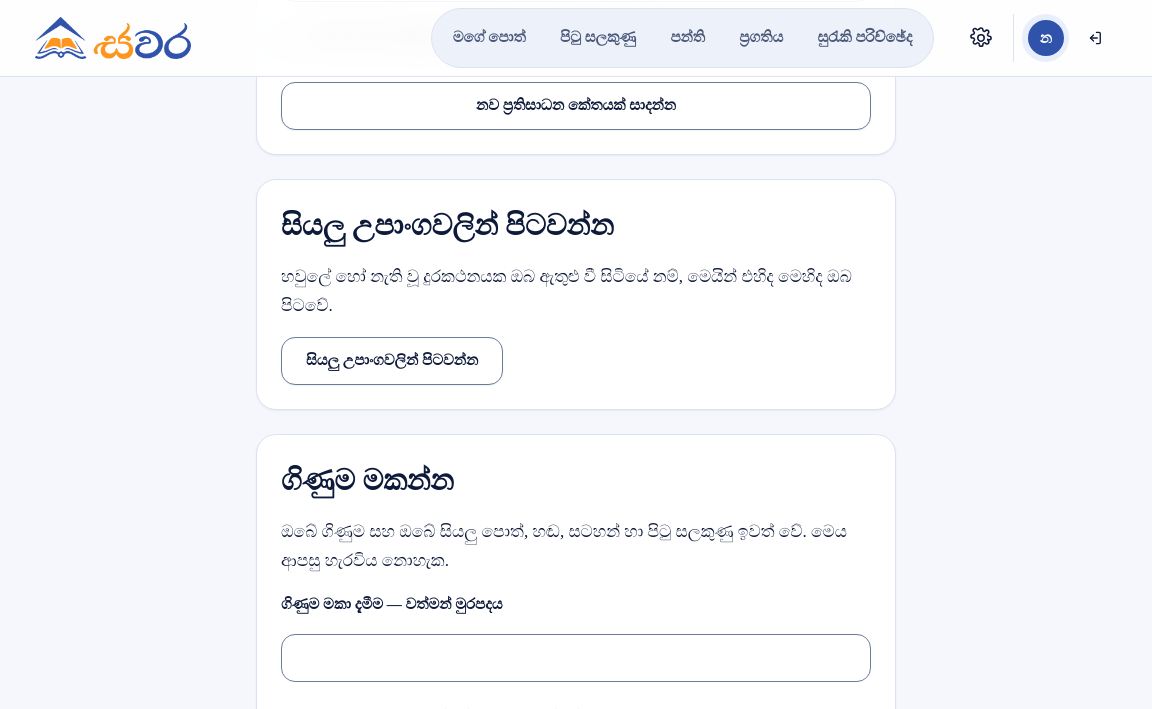
Test: signing out everywhere › ends every session, this one too, with the CSRF token
(page scrolled)
Click the button "සියලු උපාංගවලින් පිටවන්න" at (392, 361), box top-left (281, 337), bottom-right (503, 385)
(page scrolled)
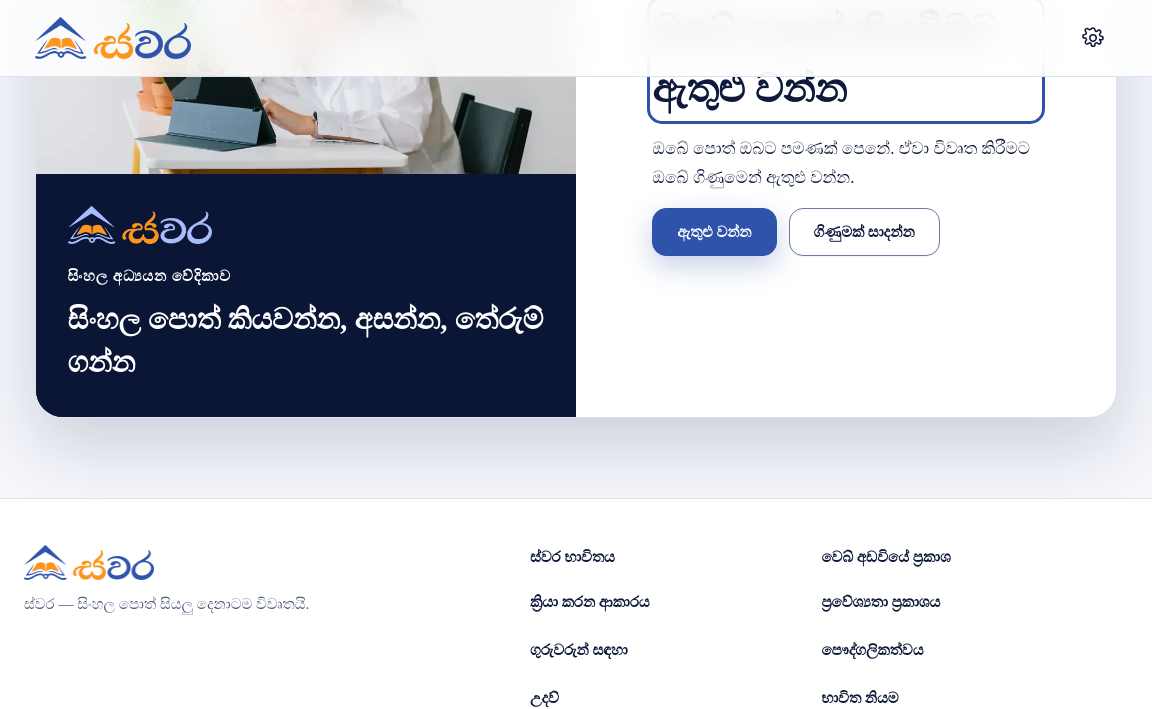
Expected: the heading "ඔබේ පොත් කියවීමට ඇතුළු වන්න" is shown, top-left (652, 1), bottom-right (1040, 119)
